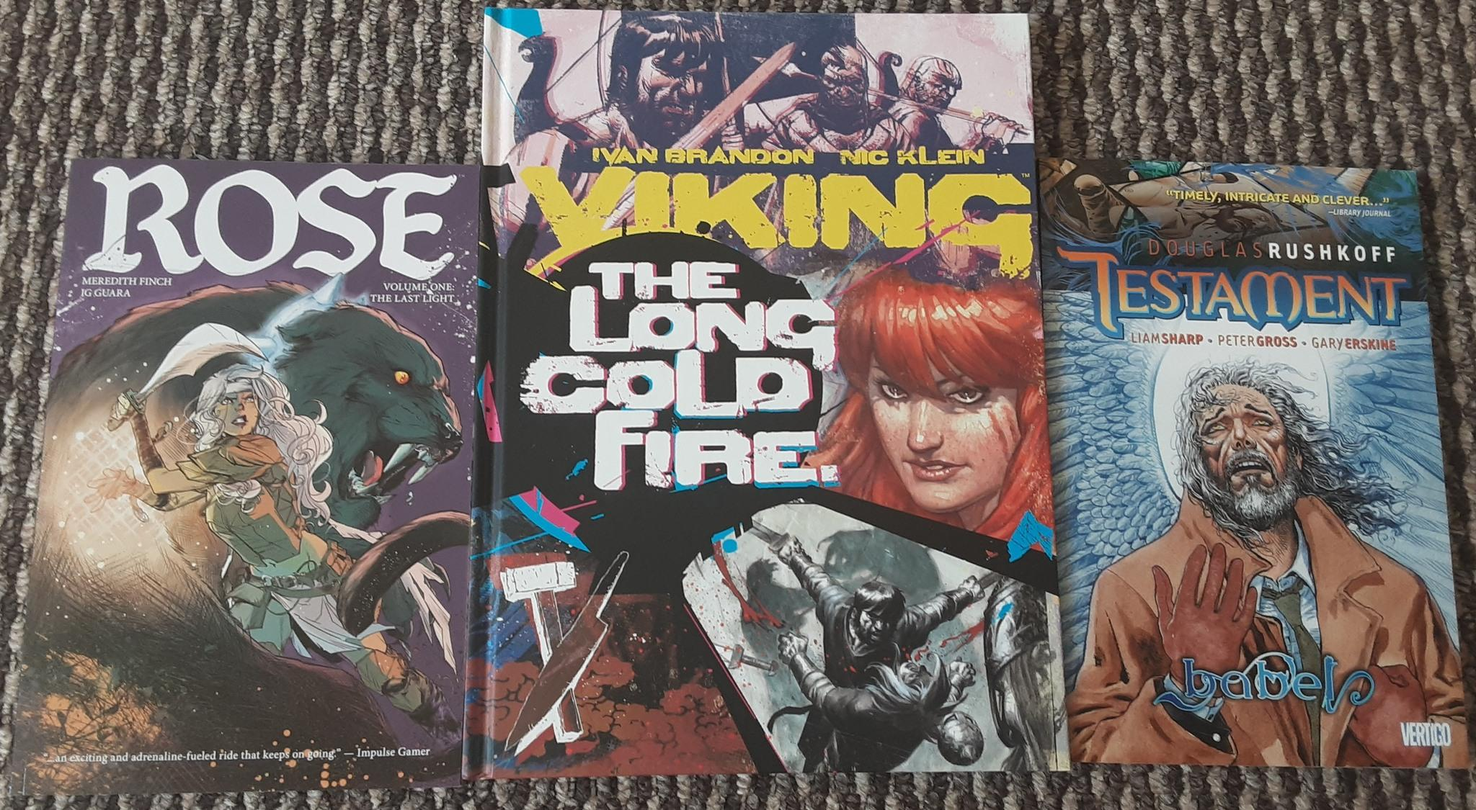comic: (456, 1, 1067, 777), (8, 152, 484, 808), (1036, 138, 1468, 789)
